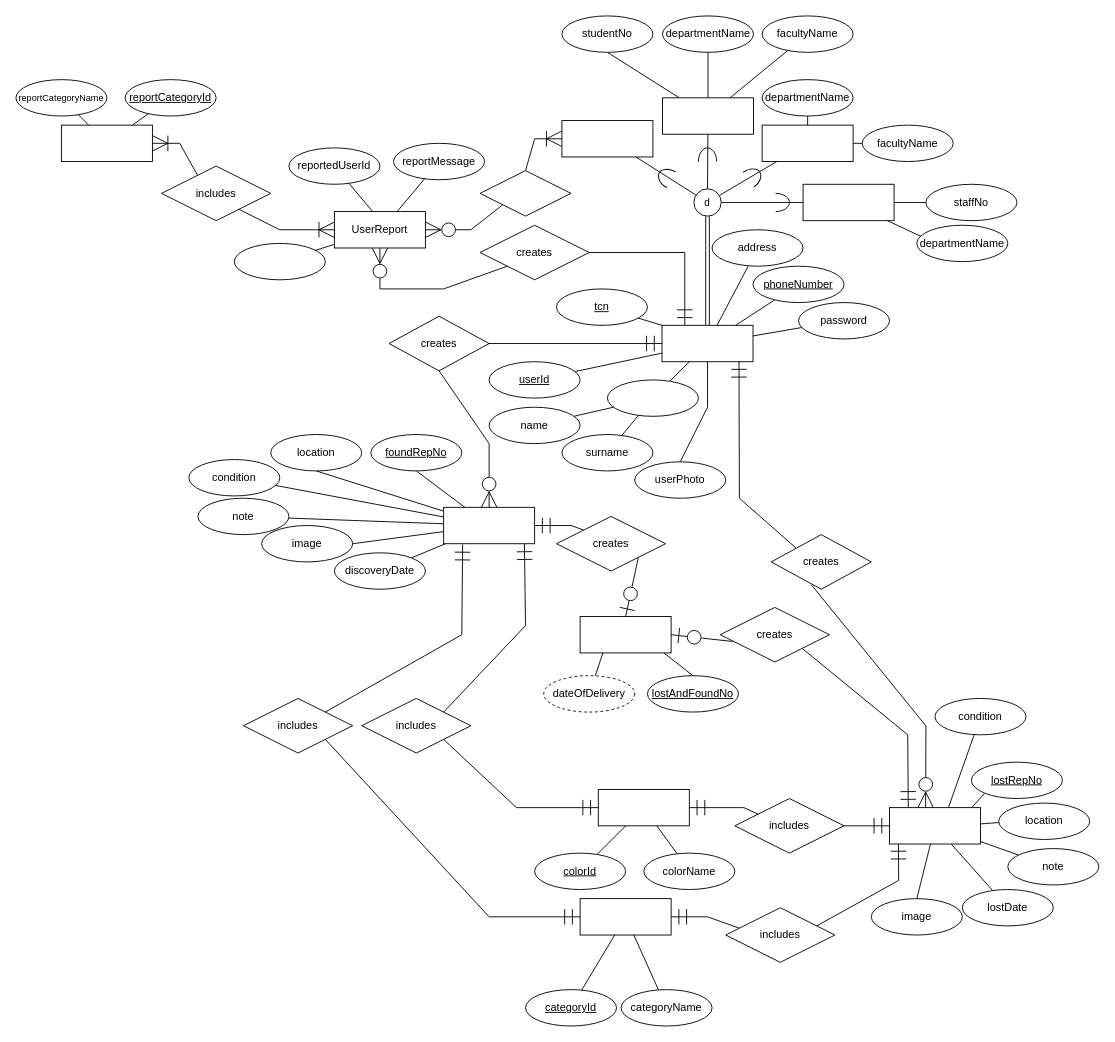
Some shapes in this 1115 by 1042 pixel diagram are drawn without their labels. Each missing label, with the centre of its shape:
"Admin" belongs at point 607,138.
"Category" belongs at point 625,916.
"Color" belongs at point 643,807.
"Faculty" belongs at point 807,143.
"FoundReport" belongs at point 489,525.
"fullName" belongs at point 652,397.
"LostAndFound" belongs at point 625,634.
"LostReport" belongs at point 935,825.
"ReportCategory" belongs at point 106,143.
"reportId" belongs at point 279,261.
"Staff" belongs at point 848,202.
"Student" belongs at point 707,115.
"tracks" belongs at point 525,193.
"User" belongs at point 707,343.
